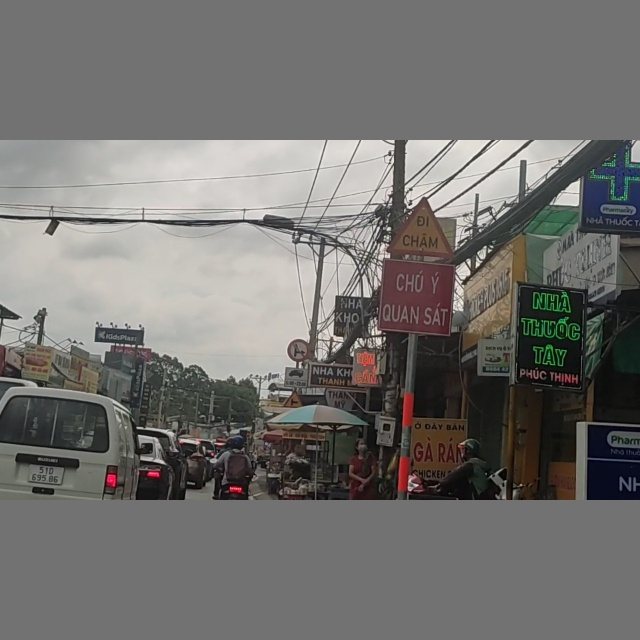P.139: (285, 339, 310, 363)
S.505a*Xe tai: (285, 367, 307, 389)
W.205b: (283, 390, 307, 411)
W.245a: (385, 195, 461, 260)
